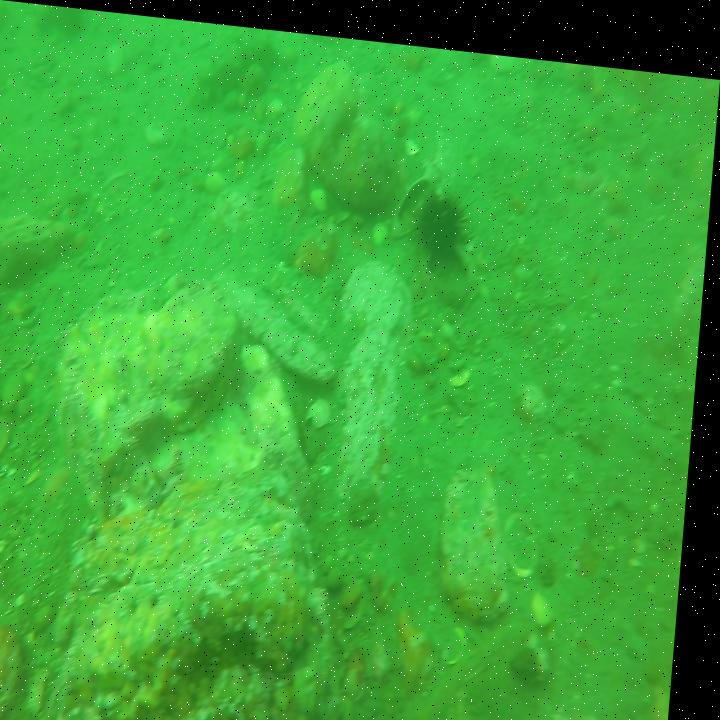echinus: (411, 178, 476, 264)
holothurian: (190, 30, 280, 103)
scallop: (507, 497, 550, 572)
